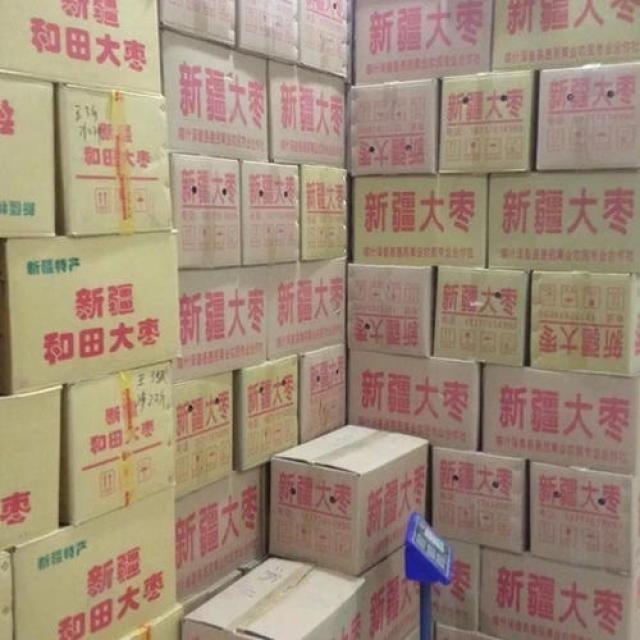box: (0, 229, 182, 394), (266, 422, 431, 577), (14, 485, 178, 639), (182, 545, 421, 639), (62, 362, 175, 525), (55, 83, 173, 237), (483, 365, 640, 477), (488, 169, 640, 273), (477, 547, 640, 639), (159, 28, 270, 163), (347, 349, 483, 452), (353, 173, 488, 269), (529, 461, 640, 577), (175, 465, 262, 607), (355, 0, 494, 84), (536, 61, 640, 172), (530, 270, 640, 374), (174, 265, 268, 384), (490, 0, 640, 72), (431, 445, 527, 556), (0, 384, 63, 550), (440, 69, 539, 174), (344, 78, 442, 177), (433, 268, 530, 367), (116, 567, 243, 639), (0, 74, 55, 237), (268, 58, 346, 168), (268, 255, 348, 362), (347, 262, 435, 358), (172, 154, 243, 270), (174, 370, 234, 502), (233, 355, 300, 471), (242, 161, 301, 268), (301, 164, 352, 261), (300, 342, 347, 443), (300, 0, 355, 83), (433, 539, 481, 632), (236, 0, 300, 67), (159, 0, 237, 49), (0, 550, 14, 639), (435, 622, 503, 639), (404, 623, 420, 639)
